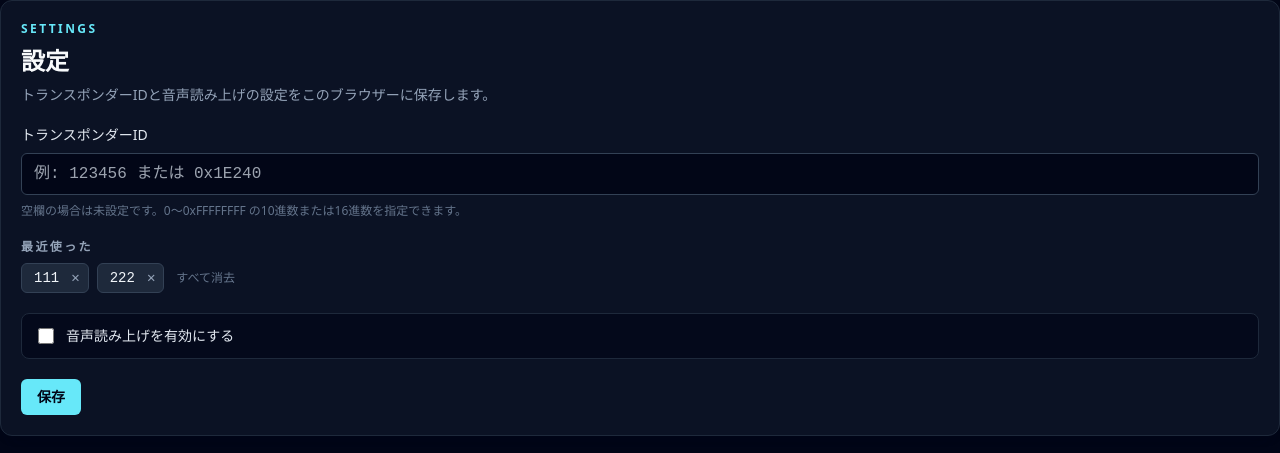
Scenario: SettingsPage › recent transponders (#110) › clears all recents and hides the section
Click the button with aria-label "最近使ったトランスポンダーをすべて消去". click: (206, 278)
box: [176,270,235,286]
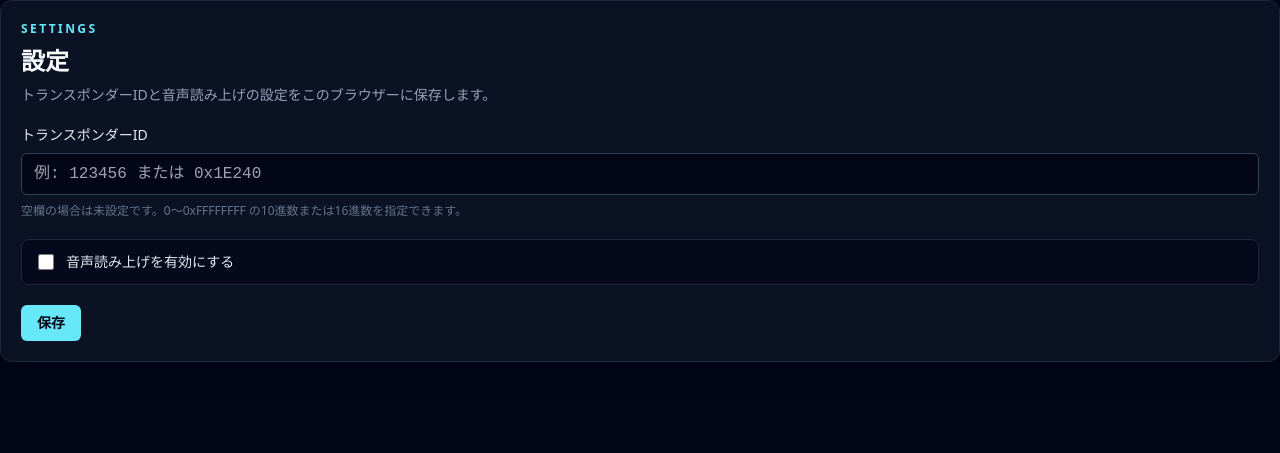
Expected: the text "最近使った" is gone
